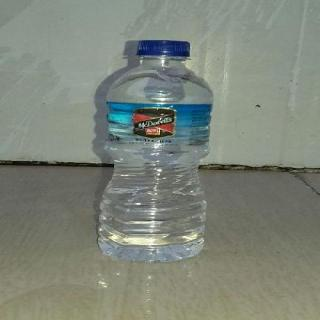Plastic-bottle: (93, 38, 218, 269)
